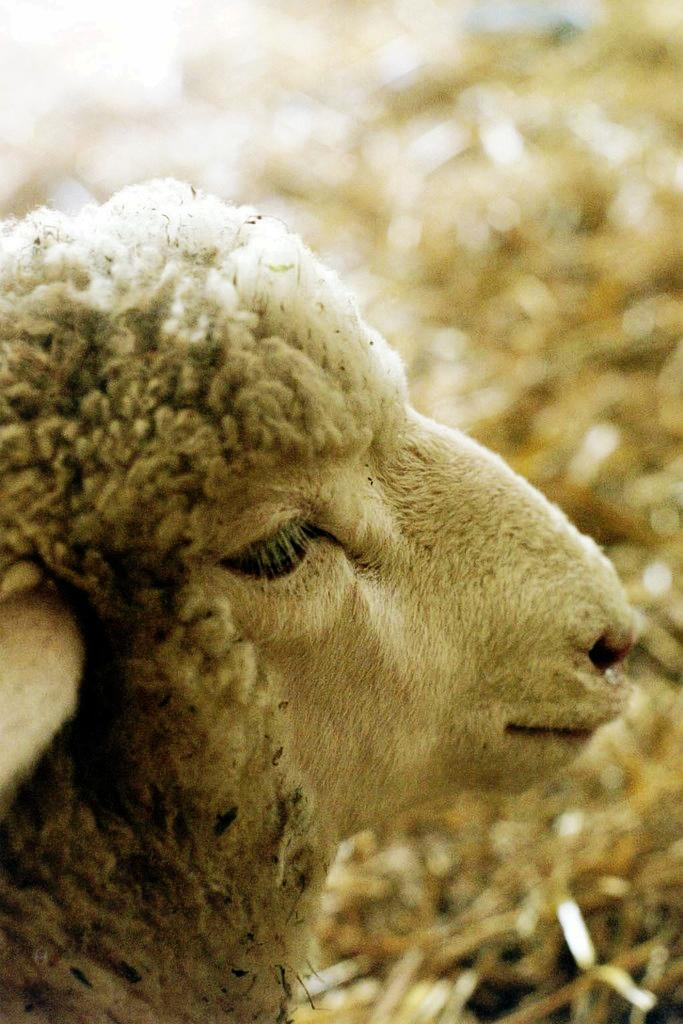Sheep: (0, 172, 636, 1023)
